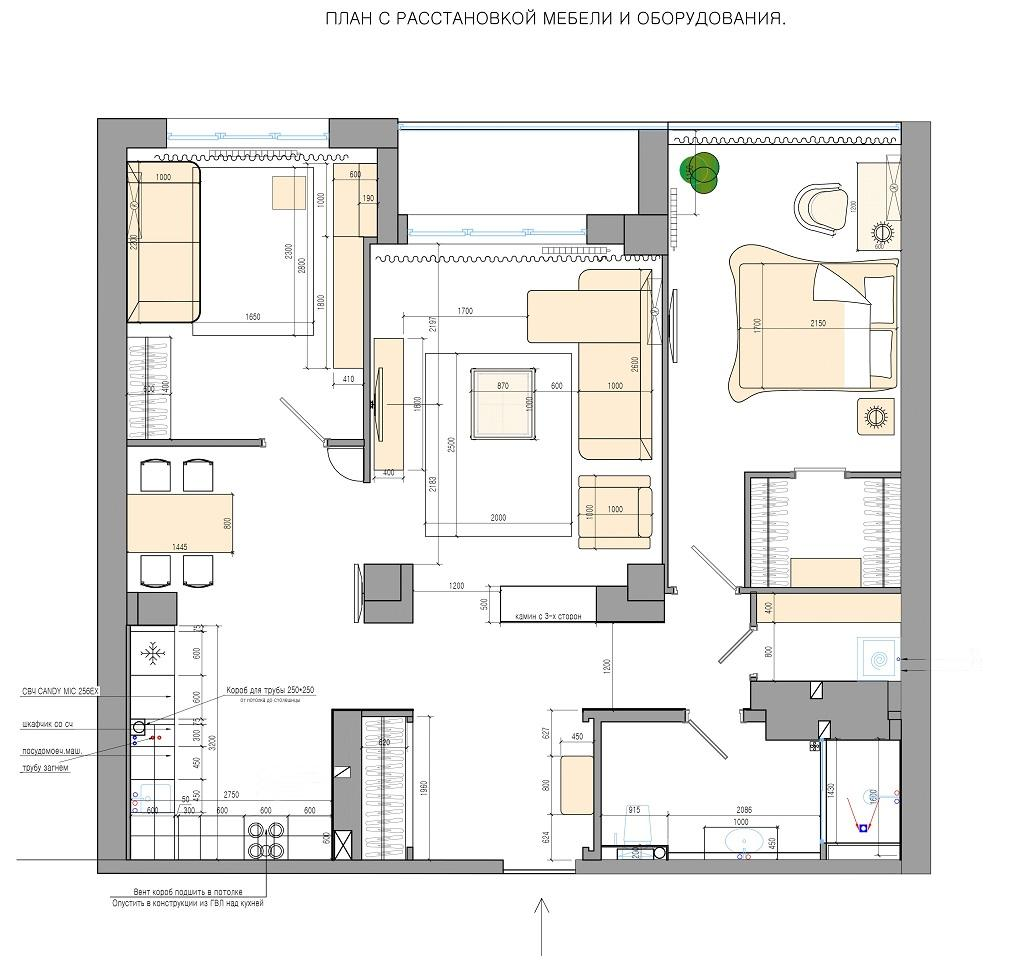balcony: (399, 128, 638, 216)
bathroom: (602, 722, 901, 860)
bedroom: (668, 130, 902, 588), (125, 147, 378, 440)
dining_room: (127, 446, 364, 626)
hallway: (362, 592, 752, 860)
kitchen: (130, 626, 334, 860)
living_room: (368, 244, 663, 624)
utility_room: (758, 595, 901, 681)
walk_in_closet: (751, 478, 902, 589)
